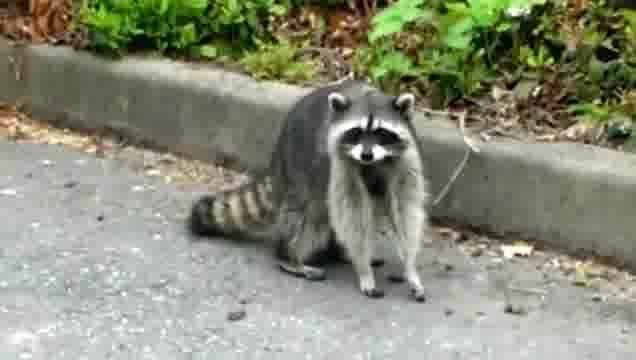raccoon: (190, 82, 431, 303)
